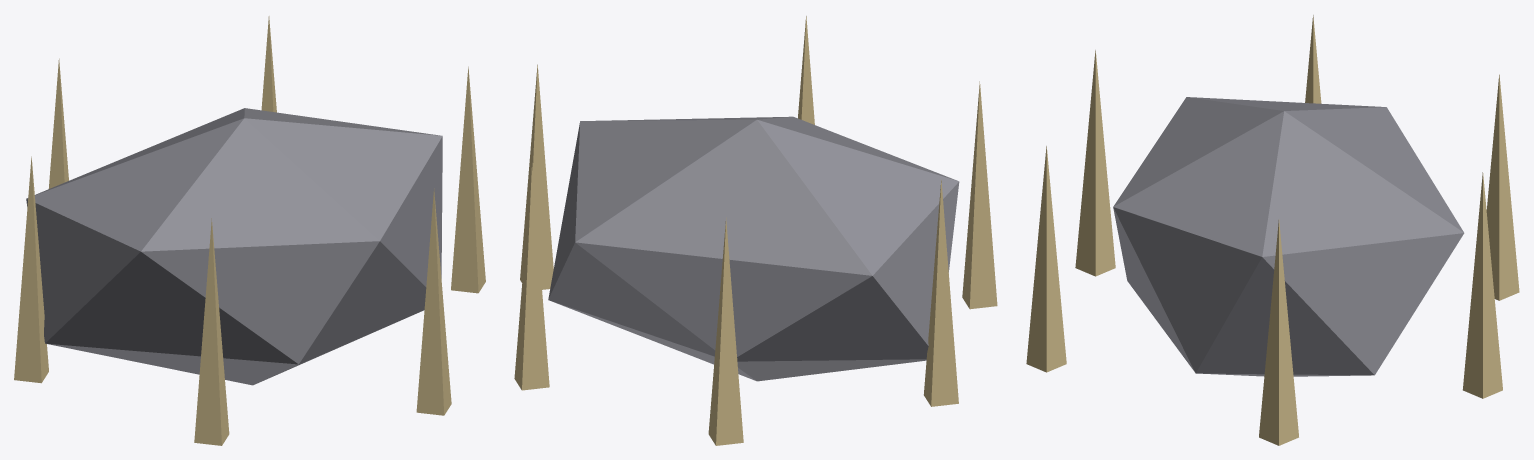
File: dry_grass_rock.glb
3 views of the same model, side by side, from view 1: azimuth 30°, elevation 25°; view 2: azimuth 150°, elevation 25°; view 3: azimuth 270°, elevation 25° (orthographic).
Visible parts, largest first — view 1: dry_grass_rock; view 2: dry_grass_rock; view 3: dry_grass_rock.
Boxes of the visible parts, x1,y1,x2,y2 form: dry_grass_rock: (14, 16, 485, 445); dry_grass_rock: (514, 16, 997, 445); dry_grass_rock: (1026, 15, 1519, 445).
Bounding box in the file's own units: 1.29 × 0.723 × 1.22.
